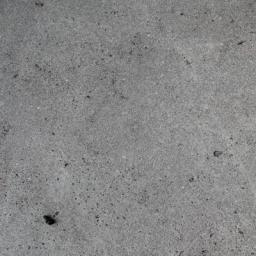FOD: (42, 214, 60, 228)
